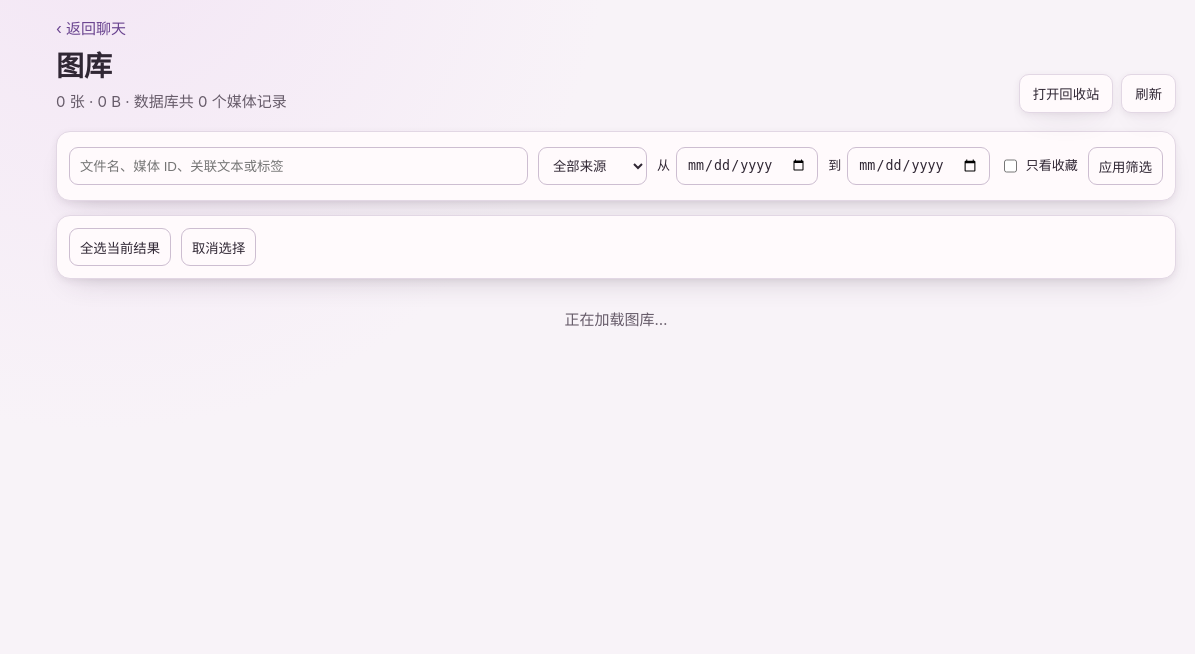
Test: GalleryPage 代次守卫 › 旧筛选迟到的响应不覆盖新筛选的结果
打开回收站，触发第二次全量加载（新筛选）
What coordinates should you click on to do the following:
click the button "打开回收站"
I would click on:
 (1066, 94)
Its box is [1019, 74, 1113, 113].
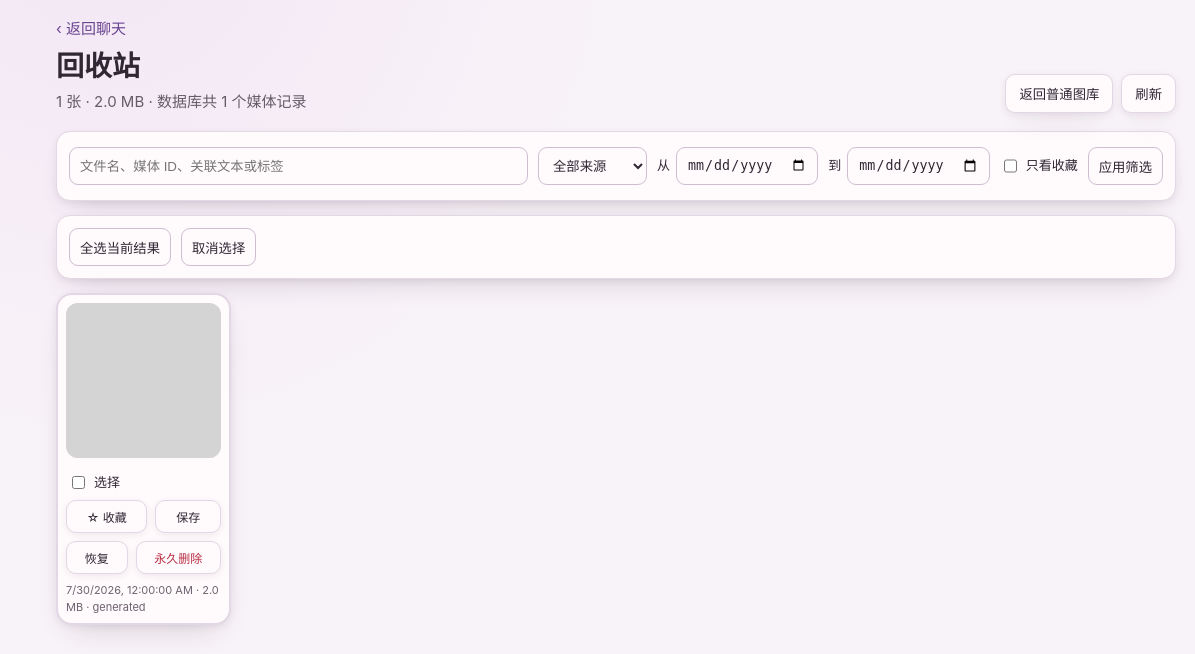
expect the text "1 张" is shown: met, box [56, 90, 307, 113]
